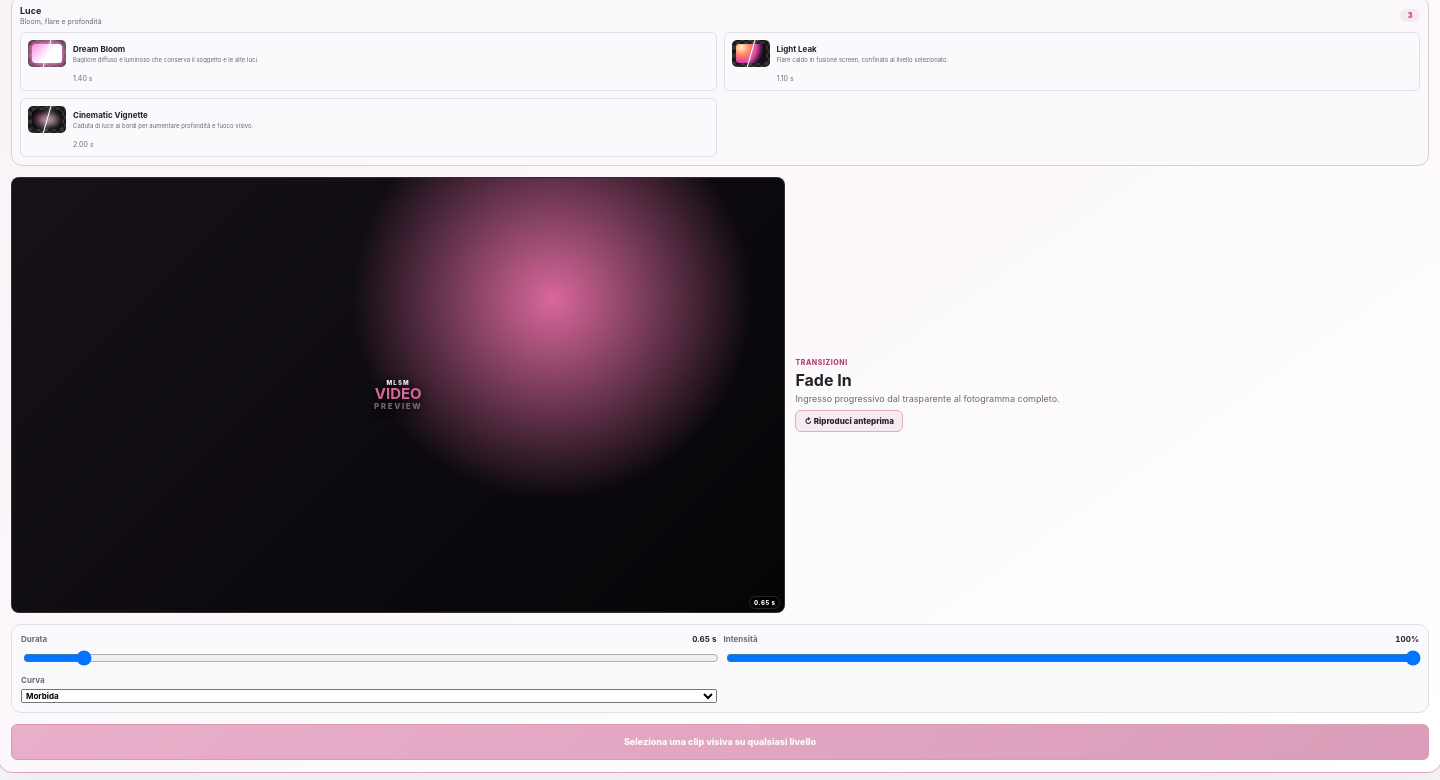
Scenario: VideoEditorEffectsLibrary › riproduce anteprime specifiche e mostra durata, intensità e parametri
(page scrolled)
What coordinates should you click on to do the following:
click the button with aria-label "Riproduci anteprima Fade In"
I would click on:
 (849, 421)
Its box is [795,410,903,432].
(page scrolled)
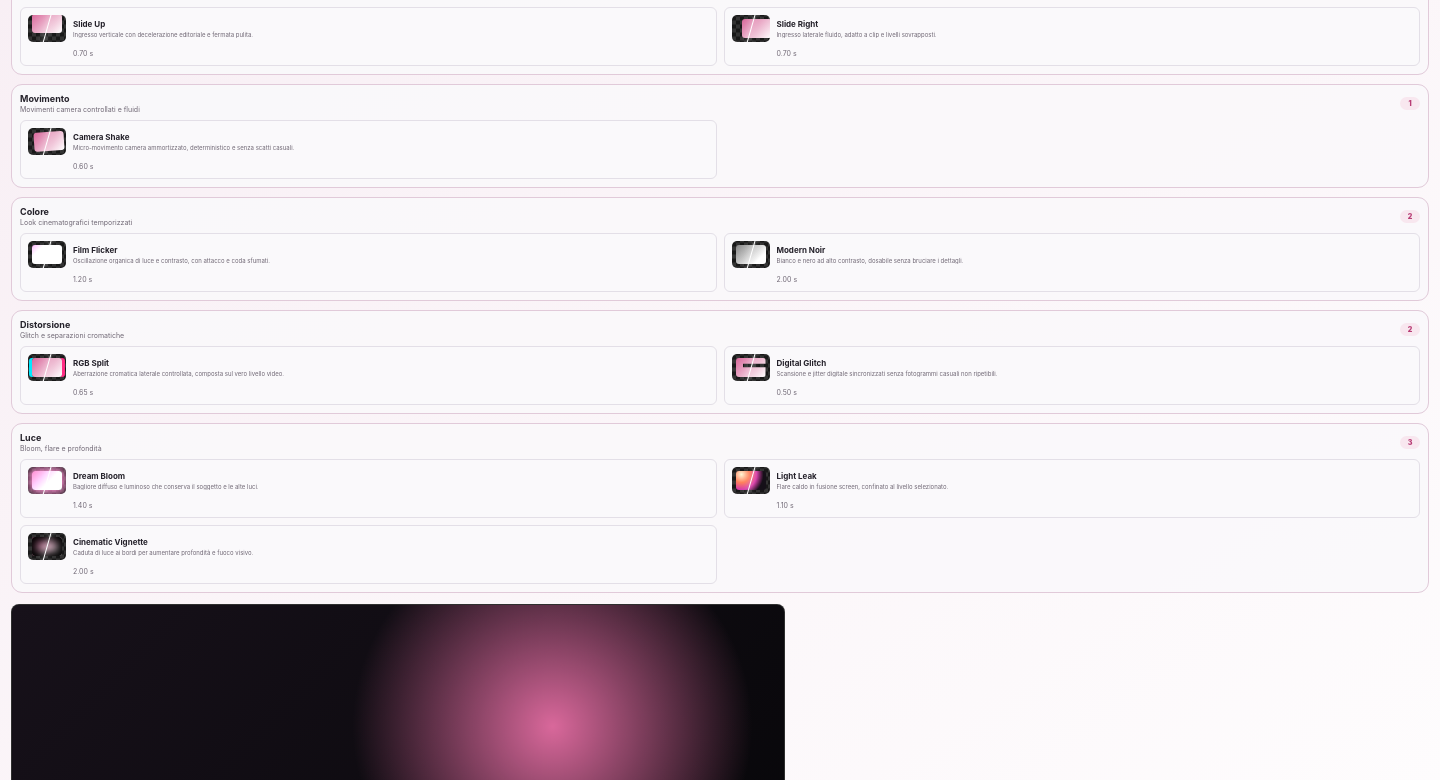
What coordinates should you click on to do the following:
click the button that starts with "RGB Split"
I would click on:
 (47, 368)
Its box is [20,346,716,405].
(page scrolled)
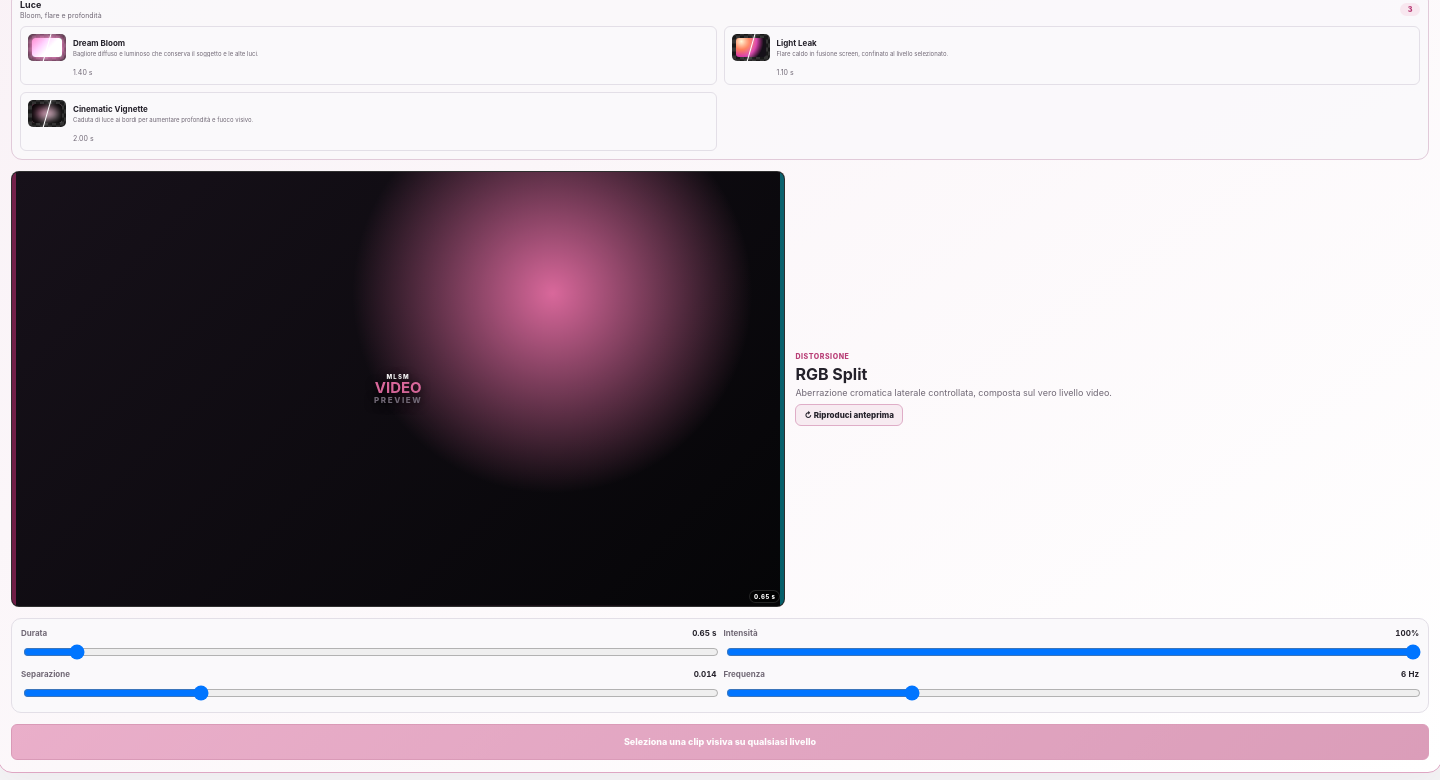
Check: the slider named "Durata RGB Split" holds "0.65", box [23,644,718,660]
Check: the slider named "Separazione RGB Split" is shown, box [23,685,718,701]
Check: the slider named "Frequenza RGB Split" is shown, box [726,685,1421,701]
